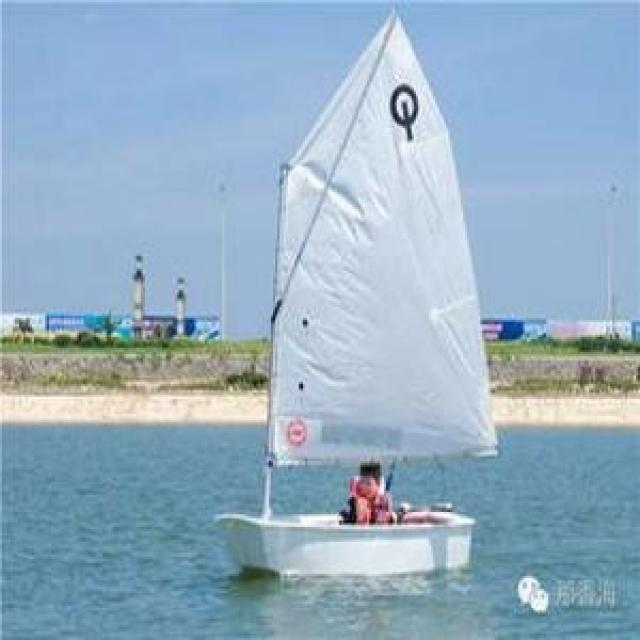sailboat: (216, 5, 500, 587)
